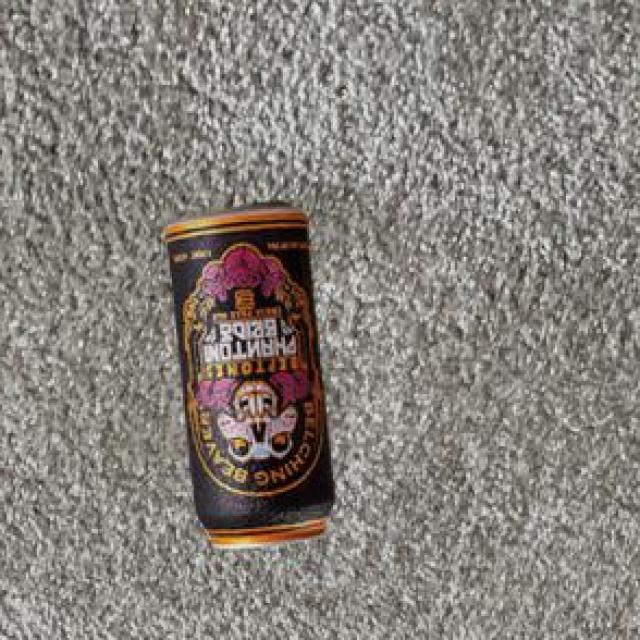logam: (169, 204, 339, 552)
